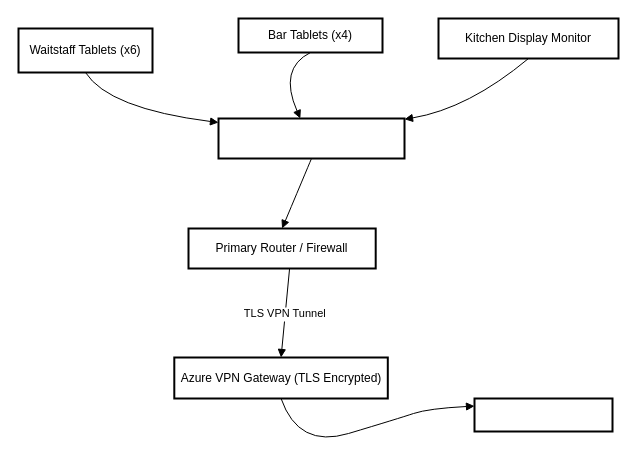
Some shapes in this 636 by 454 pixel diagram are drawn without their labels. Each missing label, with the centre of its shape:
"Azure SQL DB" belongs at point 543,414.
"Dual-Band Wi-Fi Access Point" belongs at point 311,138.
